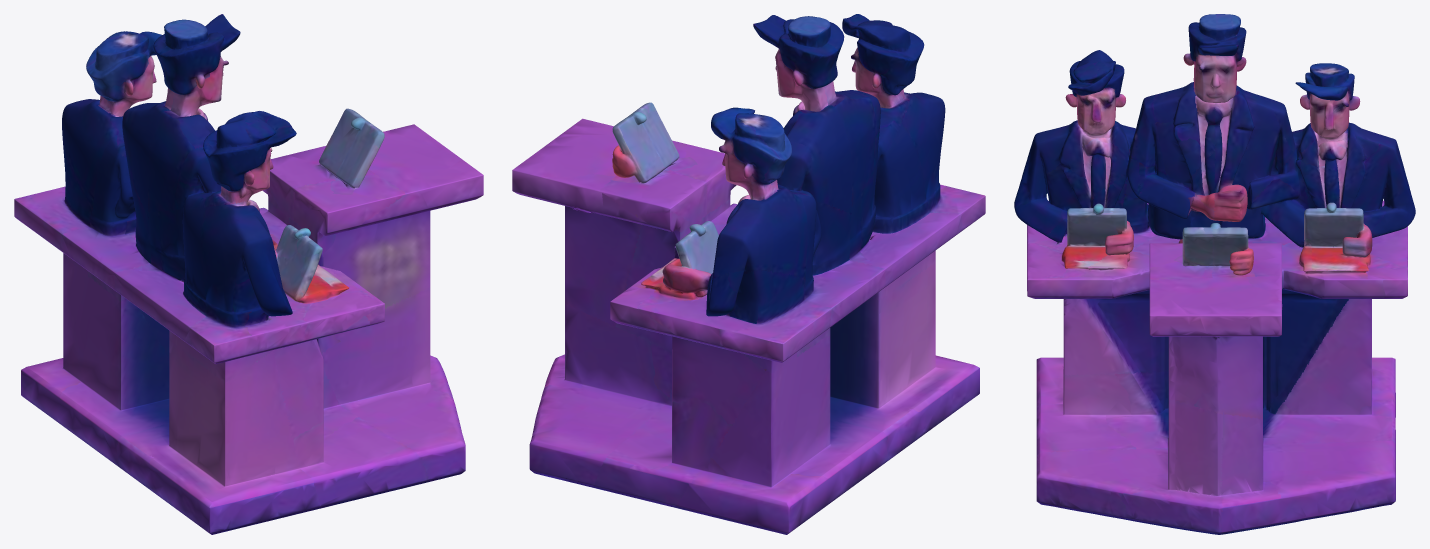
The model's file is boss_panel.glb.
3 renders of one model, left to right at view 1: azimuth 30°, elevation 25°; view 2: azimuth 150°, elevation 25°; view 3: azimuth 270°, elevation 25°, orthographic. The views are drawn at different scales.
Visible parts, largest first — view 1: tripo_node_5227119c-0115-4658-a9ab-415246fa5f0d; view 2: tripo_node_5227119c-0115-4658-a9ab-415246fa5f0d; view 3: tripo_node_5227119c-0115-4658-a9ab-415246fa5f0d.
Part boxes in pixels (x1,y1,x2,y2): tripo_node_5227119c-0115-4658-a9ab-415246fa5f0d: (14, 14, 483, 534); tripo_node_5227119c-0115-4658-a9ab-415246fa5f0d: (512, 14, 985, 534); tripo_node_5227119c-0115-4658-a9ab-415246fa5f0d: (1014, 14, 1415, 534).
Size of the model in its own units: 0.8304 by 0.9999 by 0.9087.
1 material, 1 textured.
